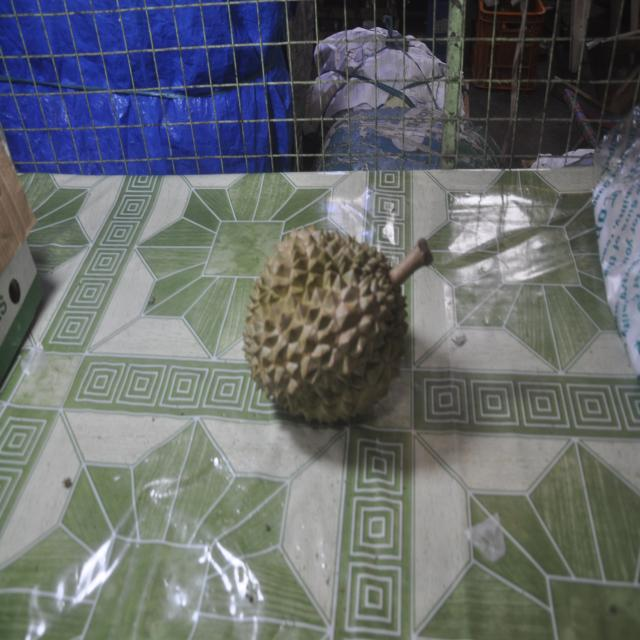mature: (243, 224, 433, 427)
